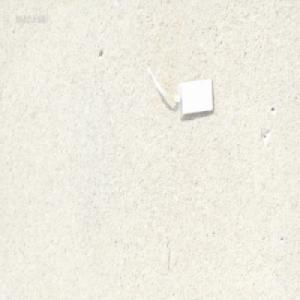LuggageTag: (145, 61, 216, 120)
